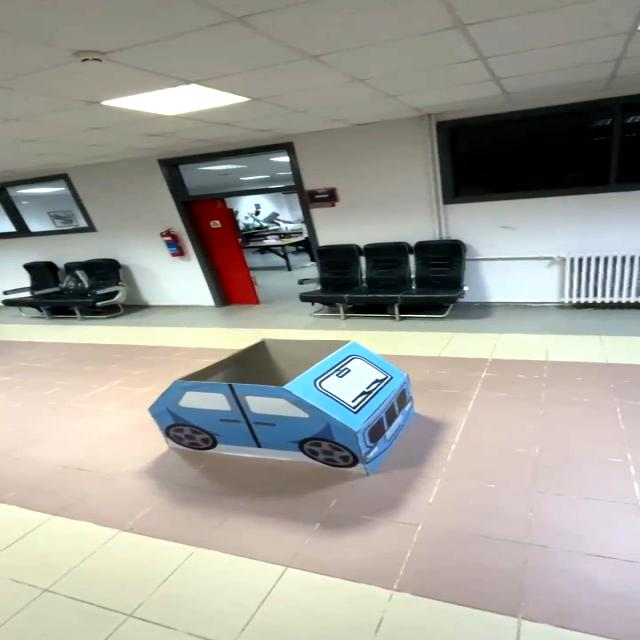blue_car: (110, 319, 429, 500)
